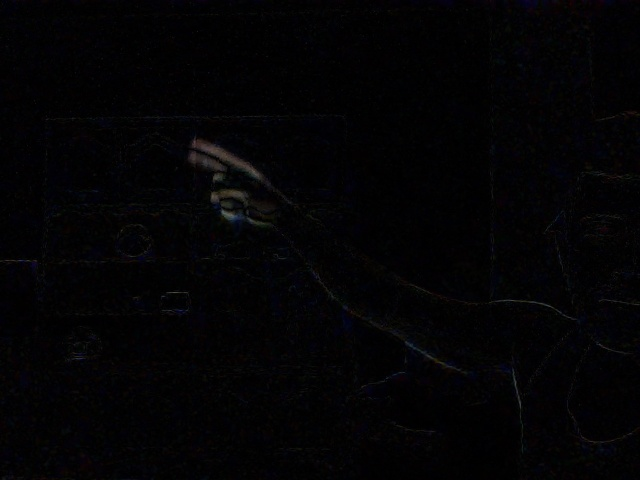hand_po: (186, 130, 274, 230)
